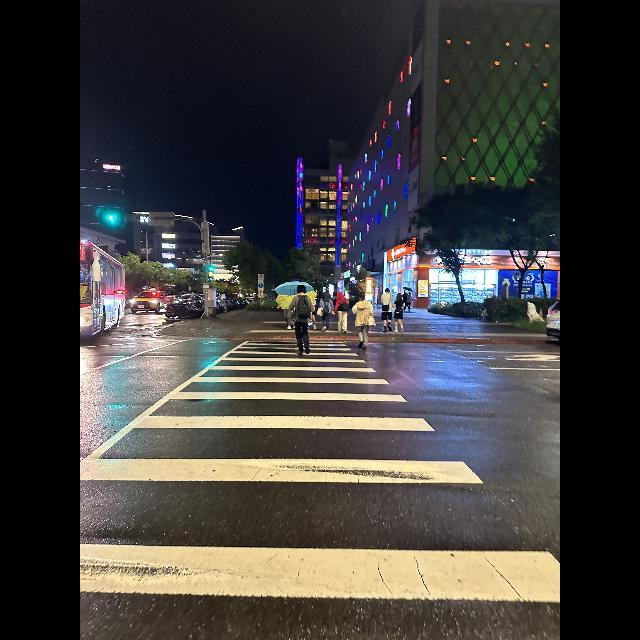sidewalk: (80, 340, 559, 601)
